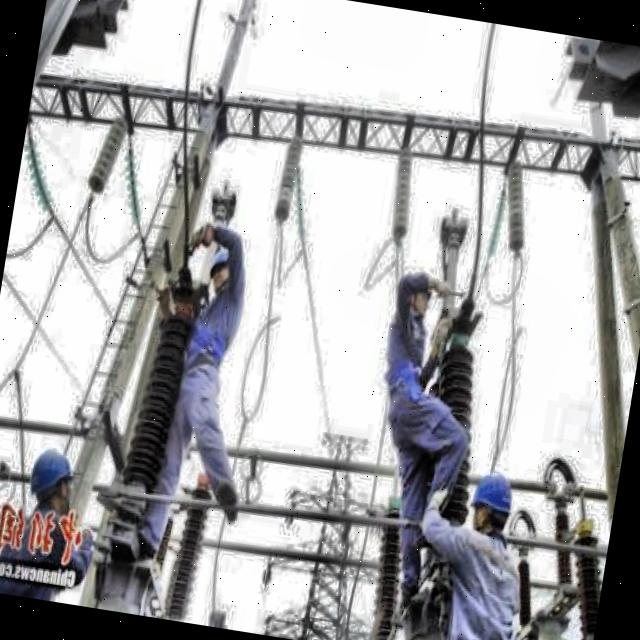helmet: (464, 466, 524, 540), (23, 444, 79, 518), (204, 245, 240, 301)
